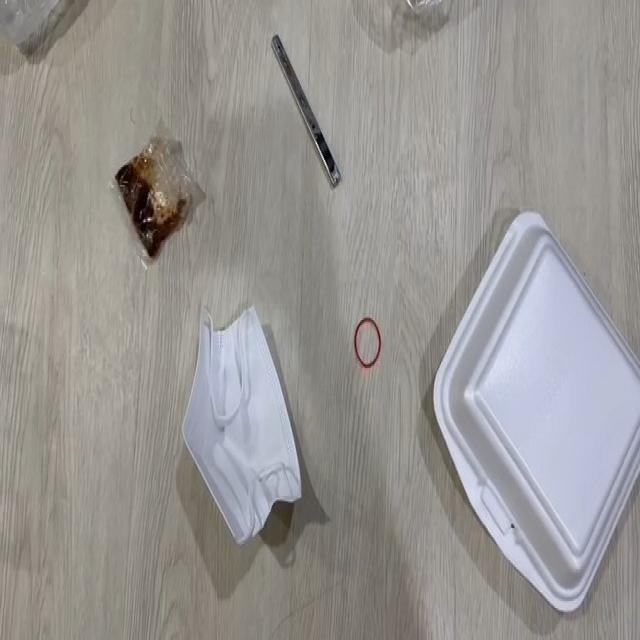Anorganik: (426, 206, 640, 611), (252, 28, 351, 192), (347, 310, 386, 370)
B3: (155, 297, 315, 555), (99, 109, 200, 273)
